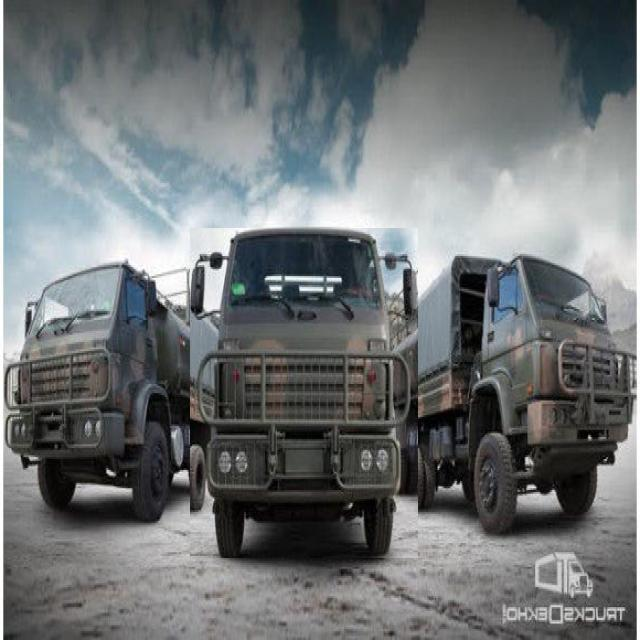truck: (190, 228, 418, 558), (390, 255, 638, 531), (5, 261, 219, 519)
